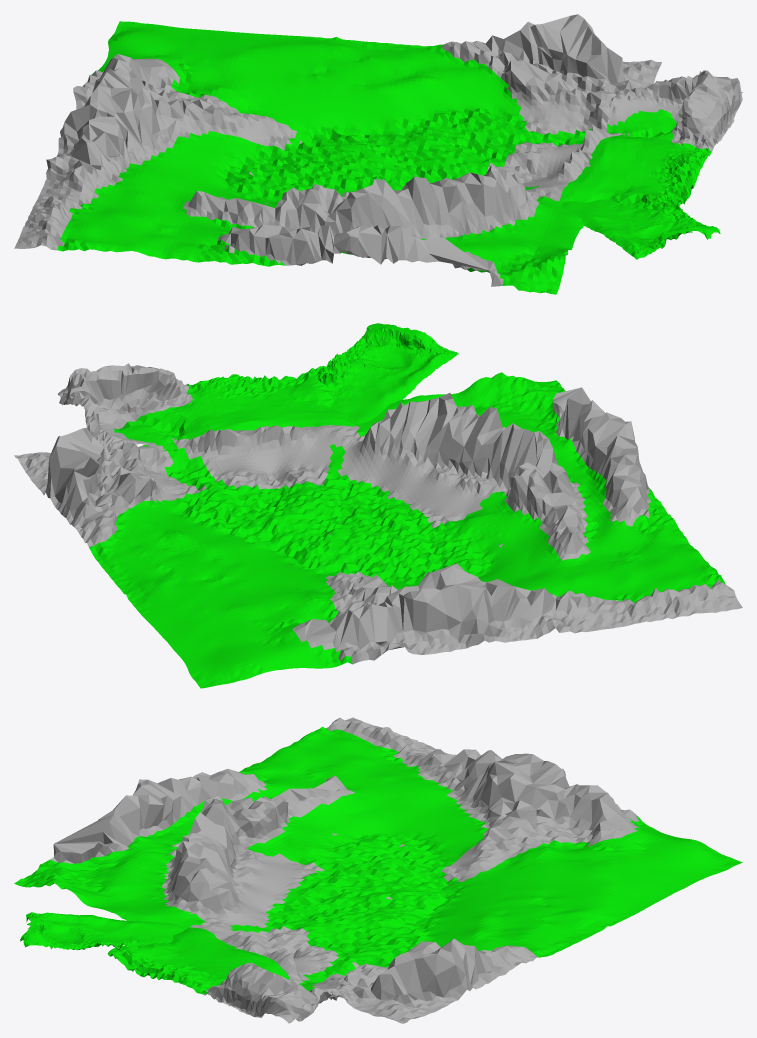
Rendered from final terrain.fbx.
3 renders of one model, top to bottom at view 1: azimuth 30°, elevation 25°; view 2: azimuth 150°, elevation 25°; view 3: azimuth 270°, elevation 25°, orthographic. The views are drawn at different scales.
Parts seen in each view (by area): view 1: pPlane7, pPlane4, pPlane6; view 2: pPlane7, pPlane4, pPlane6; view 3: pPlane7, pPlane4, pPlane6.
Boxes of the visible parts, x1,y1,x2,y2 form: pPlane7: (14, 14, 661, 294); pPlane4: (560, 70, 742, 205); pPlane6: (562, 192, 720, 259); pPlane7: (14, 372, 742, 688); pPlane4: (58, 363, 355, 452); pPlane6: (315, 323, 458, 423); pPlane7: (14, 717, 742, 1023); pPlane4: (107, 927, 357, 1023); pPlane6: (20, 912, 186, 950).
Size of the model in its own units: 985 by 102 by 957.
